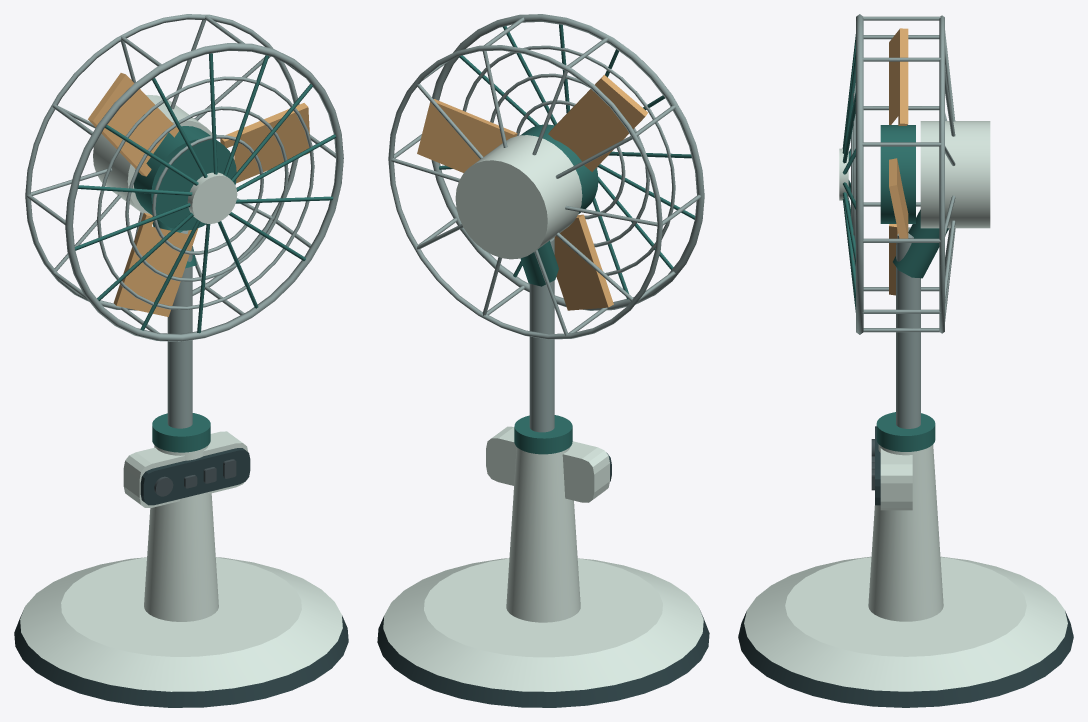
3 renders of one model, left to right at view 1: azimuth 30°, elevation 25°; view 2: azimuth 150°, elevation 25°; view 3: azimuth 270°, elevation 25°, orthographic.
Visible parts, largest first — view 1: base-shoulder, fixed-grille-rings, column-lower, rear-cage, fixed-grille-spokes, weighted-foot, rotor-hub, rotor-blade-3, rotor-blade-2, telescoping-shaft, rotor-blade-1, control-bezel (+4 smaller); view 2: base-shoulder, motor-case, rear-cage, column-lower, fixed-grille-rings, weighted-foot, rotor-blade-2, stem-control-housing, rotor-blade-1, telescoping-shaft, rotor-blade-3, fixed-grille-spokes (+3 smaller); view 3: base-shoulder, column-lower, motor-case, rear-cage, weighted-foot, telescoping-shaft, fixed-grille-rings, rotor-hub, stem-control-housing, rotor-blade-2, column-collar, fixed-grille-spokes (+2 smaller).
Boxes of the visible parts, x1,y1,x2,y2 form: base-shoulder: (20, 557, 342, 691); fixed-grille-rings: (65, 43, 343, 341); column-lower: (144, 445, 218, 621); rear-cage: (25, 14, 335, 333); fixed-grille-spokes: (75, 53, 336, 333); weighted-foot: (14, 610, 348, 707); rotor-hub: (134, 126, 236, 230); rotor-blade-3: (113, 212, 198, 316); rotor-blade-2: (88, 73, 178, 176); telescoping-shaft: (167, 230, 192, 428); rotor-blade-1: (220, 103, 309, 183); control-bezel: (140, 448, 250, 505); base-shoulder: (383, 558, 703, 691); motor-case: (455, 135, 582, 259); rear-cage: (388, 17, 701, 339); column-lower: (506, 447, 580, 622); fixed-grille-rings: (431, 14, 704, 310); weighted-foot: (377, 610, 709, 707); rotor-blade-2: (548, 74, 647, 171); stem-control-housing: (486, 426, 609, 502); rotor-blade-1: (417, 99, 517, 172); telescoping-shaft: (529, 237, 554, 432); rotor-blade-3: (554, 214, 613, 310); fixed-grille-spokes: (439, 24, 695, 299); base-shoulder: (744, 556, 1067, 691); column-lower: (868, 444, 943, 621); motor-case: (920, 121, 990, 228); rear-cage: (862, 15, 955, 333); weighted-foot: (738, 611, 1073, 707); telescoping-shaft: (896, 227, 920, 428); fixed-grille-rings: (851, 14, 863, 334); rotor-hub: (880, 125, 915, 223); stem-control-housing: (880, 448, 912, 510); rotor-blade-2: (889, 28, 908, 125); column-collar: (876, 412, 935, 451); fixed-grille-spokes: (842, 34, 855, 312).
Size of the model in its own units: 0.4 by 0.8 by 0.4.
